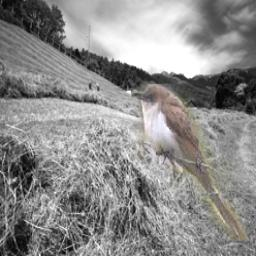Cuckoo: (132, 85, 249, 242)
